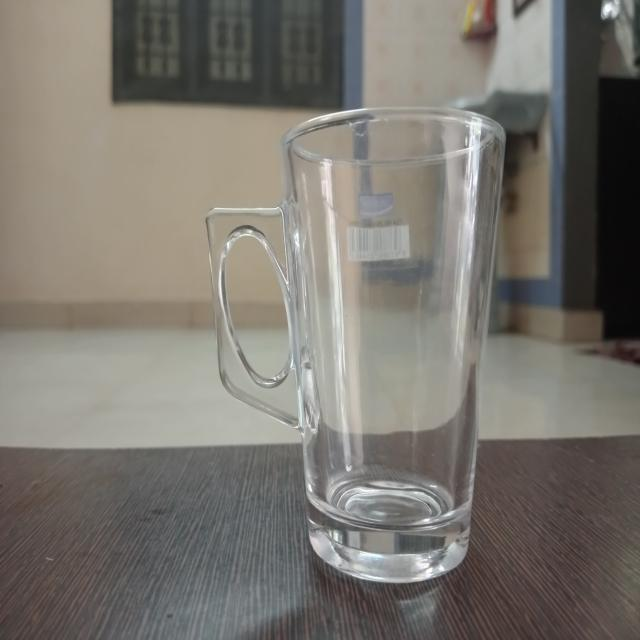glass-VX4N: (198, 99, 510, 590)
